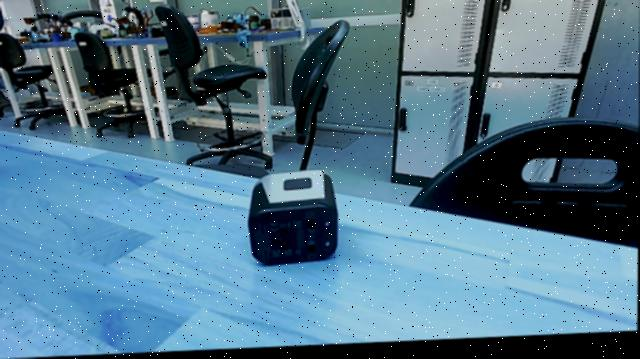adapter: (236, 165, 345, 276)
